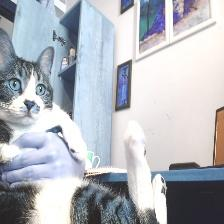kedo: (0, 27, 167, 224)
